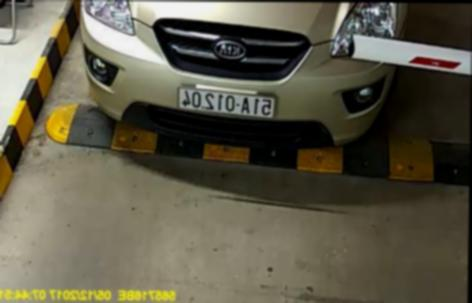License_Plate: (170, 88, 280, 118)
